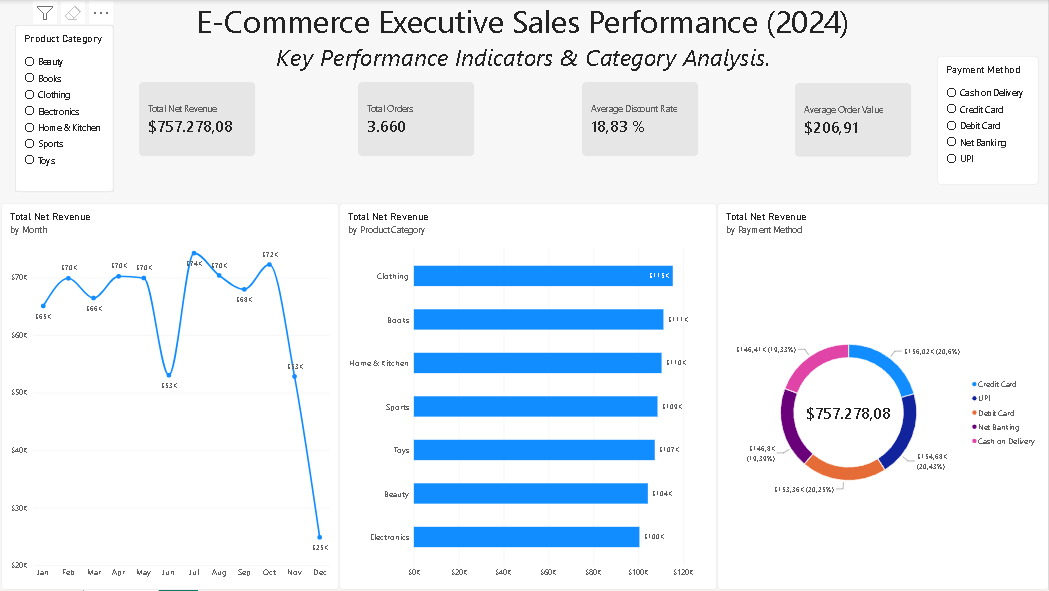

The page's visual inventory and layout, read from the dashboard file:
{"tool":"powerbi","page":{"name":"Page 1","canvas":[1920,1080],"ordinal":0},"visuals":[{"type":"textbox","box":[180,0,1556,150],"z":0},{"type":"cardVisual","fields":{"Data":["_Measures.Total Net Revenue"]},"box":[255,150,213,136.3],"z":1},{"type":"cardVisual","fields":{"Data":["_Measures.Total Orders"]},"box":[655,150,213,136.3],"z":2},{"type":"cardVisual","fields":{"Data":["_Measures.Avg Discount Rate"]},"box":[1065,150,213.3,136.7],"z":3},{"type":"cardVisual","fields":{"Data":["_Measures.AOV"]},"box":[1455,152.5,213.3,135],"z":4},{"type":"lineChart","fields":{"Category":["Dim_Calendar.Month"],"Y":["_Measures.Total Net Revenue"]},"box":[1.8,371.6,618.7,708.4],"z":5},{"type":"clusteredBarChart","fields":{"Category":["ecommerce_dataset_updated.Product Category"],"Y":["_Measures.Total Net Revenue"]},"box":[620.5,371.6,691.9,708.4],"z":6},{"type":"donutChart","fields":{"Category":["ecommerce_dataset_updated.Payment Method"],"Y":["_Measures.Total Net Revenue"]},"box":[1312.5,371.6,607.7,708.4],"z":7},{"type":"listSlicer","fields":{"Values":["ecommerce_dataset_updated.Product Category"]},"box":[28,46,180,306],"z":8},{"type":"listSlicer","fields":{"Values":["ecommerce_dataset_updated.Payment Method"]},"box":[1716,102,186,236],"z":9}]}

Visuals, with their boxes in screenshot pixels (x1, y1, x2, y2), scaled from the page's 1920x1080 canvas onto the 1049x591 screenshot:
textbox: 98, 0, 948, 82
cardVisual - _Measures.Total Net Revenue: 139, 82, 256, 157
cardVisual - _Measures.Total Orders: 358, 82, 474, 157
cardVisual - _Measures.Avg Discount Rate: 582, 82, 698, 157
cardVisual - _Measures.AOV: 795, 83, 911, 157
lineChart - Dim_Calendar.Month x _Measures.Total Net Revenue: 1, 203, 339, 590
clusteredBarChart - ecommerce_dataset_updated.Product Category x _Measures.Total Net Revenue: 339, 203, 717, 590
donutChart - ecommerce_dataset_updated.Payment Method x _Measures.Total Net Revenue: 717, 203, 1048, 590
listSlicer - ecommerce_dataset_updated.Product Category: 15, 25, 114, 193
listSlicer - ecommerce_dataset_updated.Payment Method: 938, 56, 1039, 185
